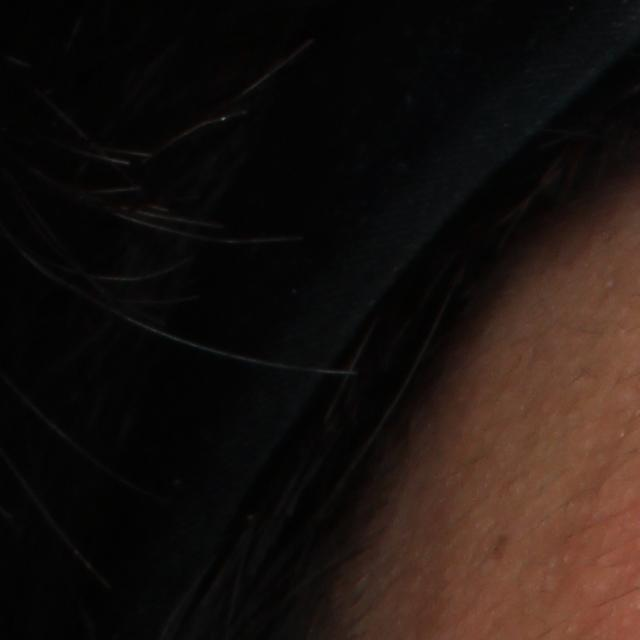nevus: (483, 531, 513, 561)
